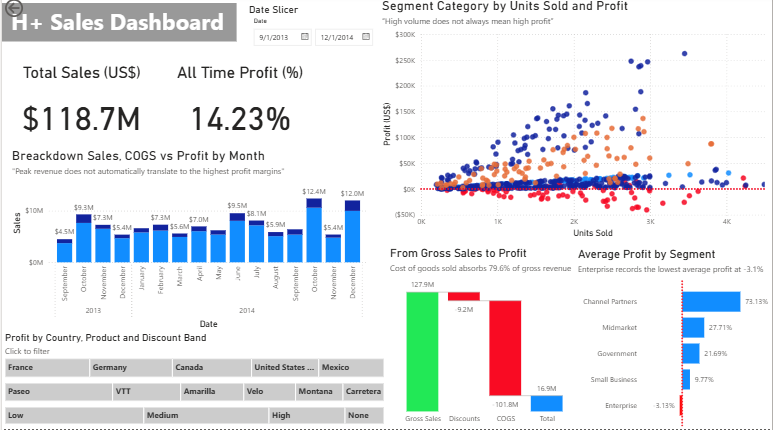

This screenshot's page, from the dashboard's own definition file:
{"tool":"powerbi","page":{"name":"Page 1","canvas":[1280,720],"ordinal":0},"visuals":[{"type":"textbox","box":[0,12.1,389.7,63.8],"z":0},{"type":"card","title":"Total Sales (US$)","fields":{"Values":["Sum(H+. Sales)"]},"box":[0,104.7,264.3,162.9],"z":1000},{"type":"card","title":"All Time Profit (%)","fields":{"Values":["H+.%Profit"]},"box":[264.3,104.7,262.1,162.1],"z":2000},{"type":"scatterChart","title":"Segment Category by Units Sold and Profit","fields":{"Series":["H+.Segment"],"X":["H+.Units Sold"],"Y":["H+.Profit"]},"box":[626.7,3.3,653.3,403.3],"z":3000},{"type":"columnChart","title":"Breackdown Sales, COGS vs Profit by Month","fields":{"Category":["TableDate.Date.Variation.Date Hierarchy.Year","TableDate.Date.Variation.Date Hierarchy.Month"],"Y":["Sum(H+.COGS)","Sum(H+.Profit)"]},"box":[11.7,253.3,601.7,305],"z":4000},{"type":"treemap","title":"Profit by Country, Product and Discount Band","fields":{"Group":["H+.Country"],"Values":["Sum(H+.Profit)"]},"box":[0,557.1,640,81.7],"z":4000,"group":"g1"},{"type":"slicer","title":"Date Slicer","fields":{"Values":["TableDate.Date"]},"box":[405.2,12.1,222.4,100],"z":5000},{"type":"treemap","fields":{"Group":["H+.Discount Band"],"Values":["Sum(H+.Profit)"]},"box":[0,678.6,640,38.3],"z":5000,"group":"g1"},{"type":"waterfallChart","title":"From Gross Sales to Profit","fields":{"Category":["Waterfall Chart.Item"],"Y":["H+.Waterfall Value"]},"box":[640,415,326.7,305],"z":6000},{"type":"actionButton","box":[0,0,100,40],"z":7000},{"type":"group","id":"g1","title":"Group 1","box":[0,557.1,640,159.9],"z":8000},{"type":"treemap","fields":{"Group":["H+.Product"],"Values":["Sum(H+.Profit)"]},"box":[0,638.8,640,40],"z":8000,"group":"g1"},{"type":"barChart","title":"Average Profit by Segment","fields":{"Category":["H+.Segment"],"Y":["H+.%Profit"]},"box":[953.3,416.7,326.7,303.3],"z":9000}]}

Visuals, with their boxes in screenshot pixels (x1, y1, x2, y2), scaled from the page's 1280x720 canvas onto the 773x430 screenshot:
textbox: [0,7,235,45]
"Total Sales (US$)" card: [0,63,160,160]
"All Time Profit (%)" card: [160,63,318,159]
"Segment Category by Units Sold and Profit" scatterChart: [378,2,772,243]
"Breackdown Sales, COGS vs Profit by Month" columnChart: [7,151,370,333]
"Profit by Country, Product and Discount Band" treemap: [0,333,386,382]
"Date Slicer" slicer: [245,7,379,67]
treemap - H+.Discount Band x Sum(H+.Profit): [0,405,386,428]
"From Gross Sales to Profit" waterfallChart: [386,248,584,429]
actionButton: [0,0,60,24]
"Group 1" group: [0,333,386,428]
treemap - H+.Product x Sum(H+.Profit): [0,382,386,405]
"Average Profit by Segment" barChart: [576,249,772,429]
